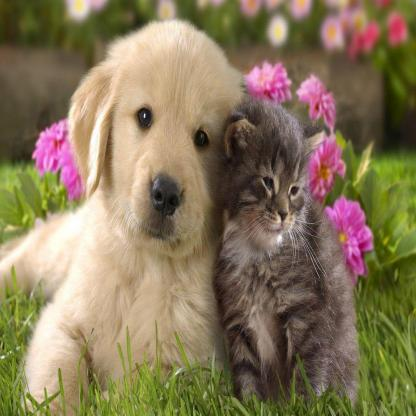cat: (228, 95, 338, 269)
dog: (58, 20, 226, 274)
